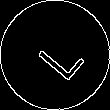L_NW: (26, 27, 84, 83)
